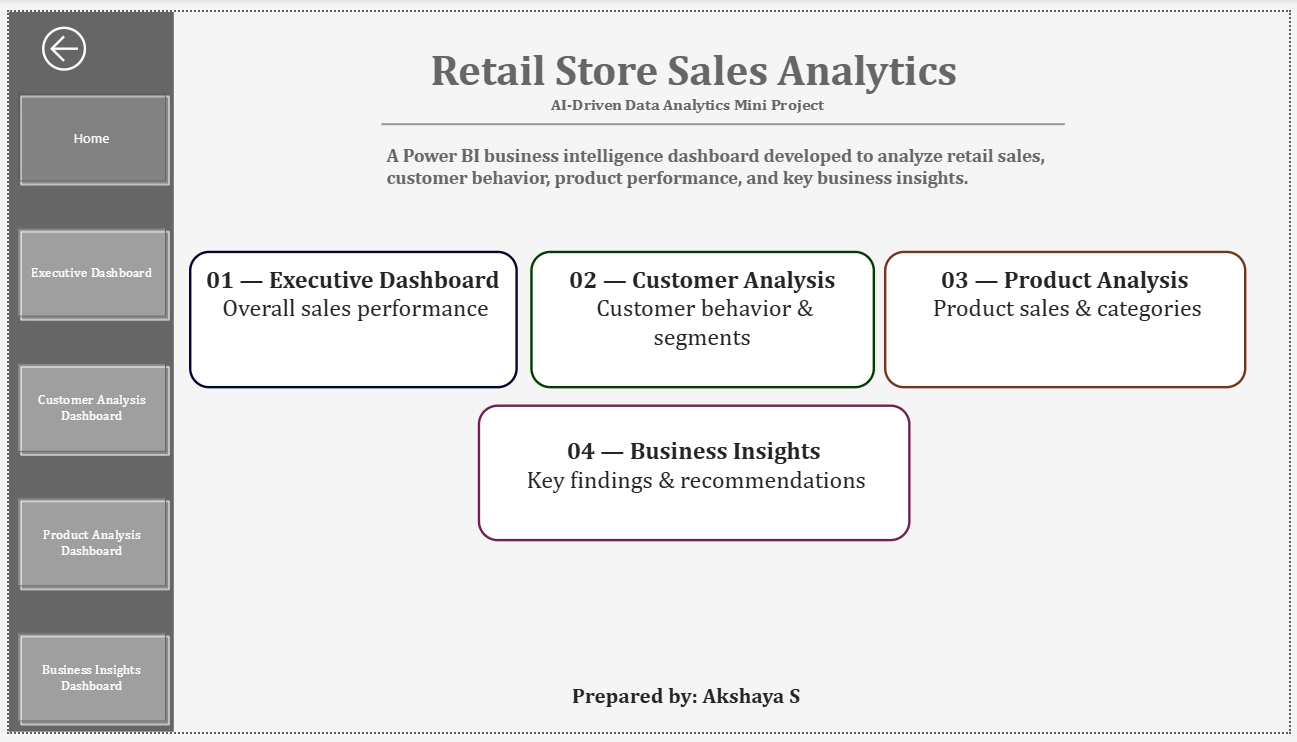

This screenshot's page, from the dashboard's own definition file:
{"tool":"powerbi","page":{"name":"Home","canvas":[1280,720],"ordinal":0},"visuals":[{"type":"textbox","box":[373,649.3,609,70.9],"z":0},{"type":"textbox","box":[362,26.9,644.4,64.8],"z":1000},{"type":"textbox","box":[362,77,631,35.5],"z":2000},{"type":"textbox","box":[373,127.2,683.6,73.4],"z":3000},{"type":"shape","box":[373,97.8,683.6,29.3],"z":4000},{"type":"textbox","box":[180,238.8,328.8,137.5],"z":5000},{"type":"textbox","box":[521.2,238.8,345,137.5],"z":6000},{"type":"textbox","box":[875,238.8,362.5,137.5],"z":7000},{"type":"textbox","box":[468.3,392.5,432.9,137],"z":8000},{"type":"pageNavigator","box":[0,73.1,165.1,646.9],"z":9000},{"type":"actionButton","box":[0,0,165.1,73.4],"z":10000}]}

Visuals, with their boxes in screenshot pixels (x1, y1, x2, y2), scaled from the page's 1280x720 canvas onto the 1297x742 screenshot:
textbox: [x1=378, y1=669, x2=995, y2=741]
textbox: [x1=367, y1=28, x2=1020, y2=95]
textbox: [x1=367, y1=79, x2=1006, y2=116]
textbox: [x1=378, y1=131, x2=1071, y2=207]
shape: [x1=378, y1=101, x2=1071, y2=131]
textbox: [x1=182, y1=246, x2=516, y2=388]
textbox: [x1=528, y1=246, x2=878, y2=388]
textbox: [x1=887, y1=246, x2=1254, y2=388]
textbox: [x1=475, y1=404, x2=913, y2=546]
pageNavigator: [x1=0, y1=75, x2=167, y2=741]
actionButton: [x1=0, y1=0, x2=167, y2=76]
